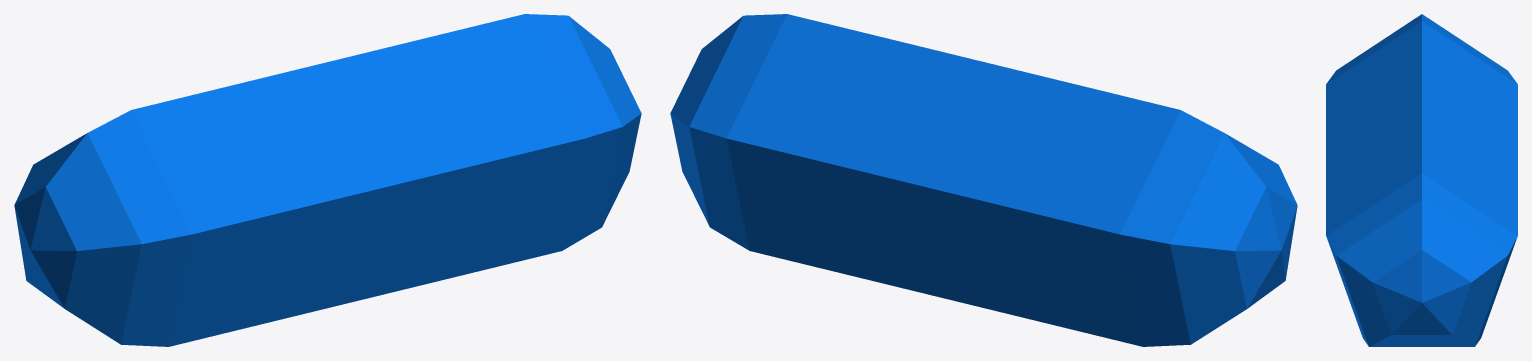
Rendered from SM_Prop_Pills_06.fbx.
3 views of the same model, side by side, from view 1: azimuth 30°, elevation 25°; view 2: azimuth 150°, elevation 25°; view 3: azimuth 270°, elevation 25° (orthographic). The views are drawn at different scales.
Visible parts, largest first — view 1: SM_Prop_Pills_06; view 2: SM_Prop_Pills_06; view 3: SM_Prop_Pills_06.
Boxes of the visible parts, left/top/right/bottom form: SM_Prop_Pills_06: left=14, top=14, right=641, bottom=346; SM_Prop_Pills_06: left=670, top=14, right=1297, bottom=346; SM_Prop_Pills_06: left=1326, top=14, right=1517, bottom=346.
Size of the model in its own units: 6.14 by 2.06 by 2.17.
